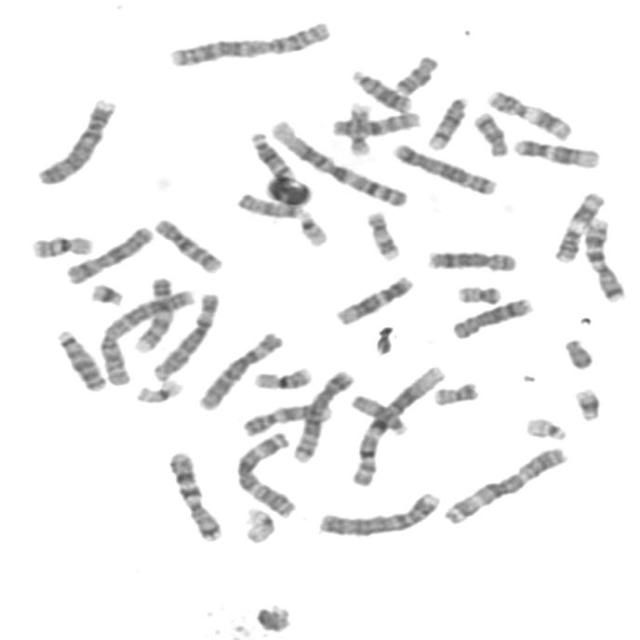A1: (263, 114, 410, 208), (346, 359, 449, 489)
A2: (94, 283, 197, 388), (162, 13, 334, 68)
A3: (436, 440, 571, 526), (230, 426, 298, 519)
B4: (30, 92, 118, 186), (312, 486, 442, 538)
B5: (286, 364, 356, 463), (386, 137, 500, 196)
C10: (148, 212, 225, 274), (325, 105, 423, 138)
C11: (480, 84, 575, 141), (549, 186, 607, 264)
C12: (329, 270, 416, 326), (507, 133, 603, 170)
C6: (192, 325, 286, 412), (147, 286, 222, 382)
C7: (161, 444, 225, 544), (578, 213, 629, 303)
C8: (446, 292, 536, 340), (420, 244, 520, 273)
C9: (235, 398, 336, 438), (128, 271, 176, 354)
D13: (51, 324, 109, 393), (345, 64, 414, 114)
D14: (244, 127, 300, 190), (421, 91, 470, 151)
D15: (346, 389, 411, 437), (232, 187, 304, 220)
E16: (24, 229, 95, 260), (248, 361, 314, 391)
E17: (360, 205, 403, 262), (341, 96, 375, 158)
E18: (388, 48, 441, 96), (468, 106, 511, 158)
F19: (129, 374, 185, 406), (238, 502, 277, 545)
F20: (427, 376, 481, 407), (450, 279, 504, 306)
G21: (567, 382, 604, 423), (84, 278, 125, 308)
G22: (291, 206, 330, 248), (519, 411, 570, 442)
X: (60, 220, 156, 286)
Y: (558, 333, 596, 371)
